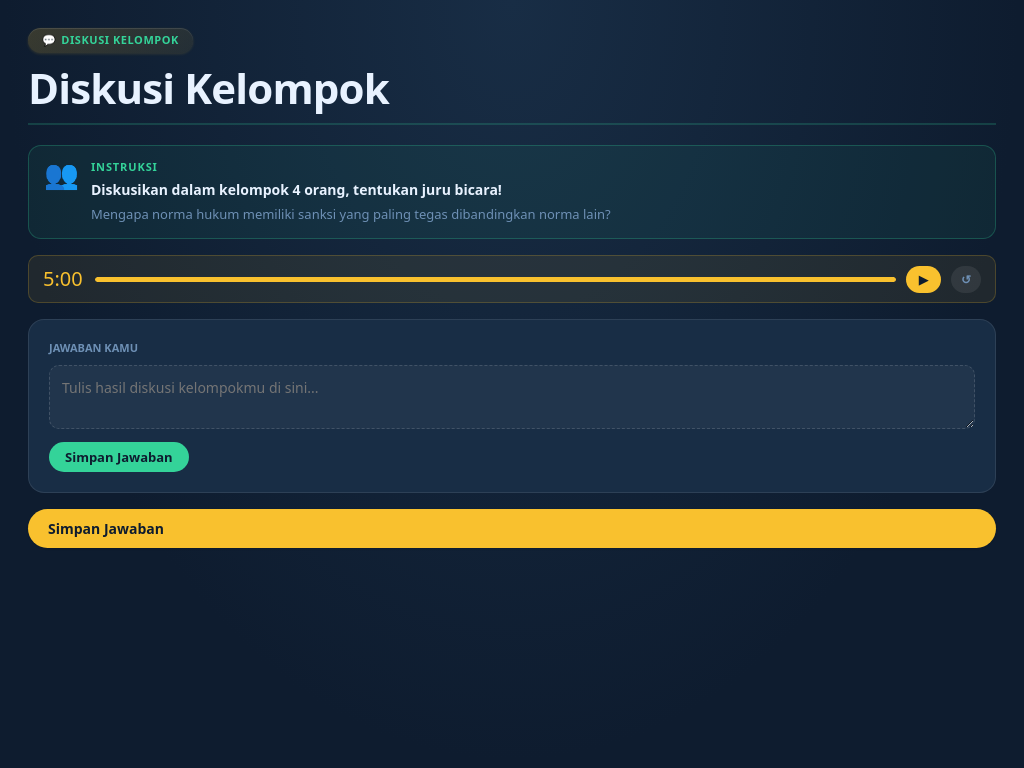
Test: GOLDEN-REFERENCE-PRODUCT-GATE-01 — Scope C: Interaction Gate › 13. timer block has start/pause + reset buttons (behavior)
The image size is (1024, 768).
Expected: the element with class "silse-block-timer" is shown, [28, 255, 996, 303]
# Click start
Click the button with test id "timer-toggle": click(923, 279) [906, 266, 941, 293]
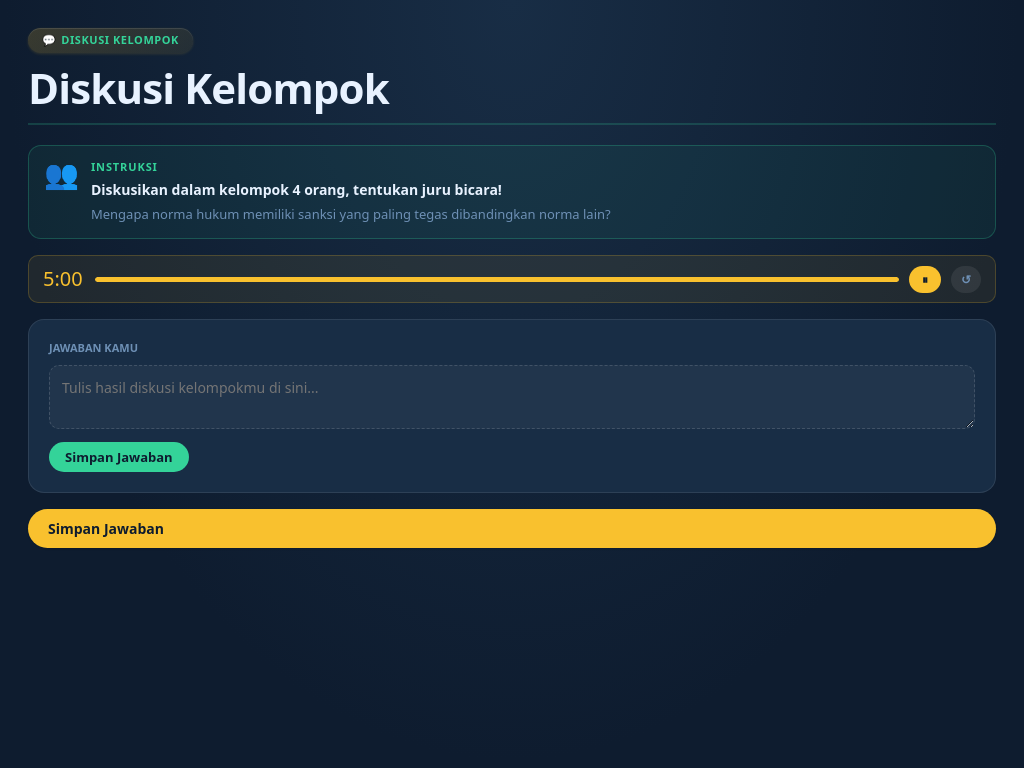
Expected: the button with test id "timer-reset" is shown, [951, 266, 981, 293]
Result: the button with test id "timer-toggle" reads "⏸" at [909, 266, 941, 293]
